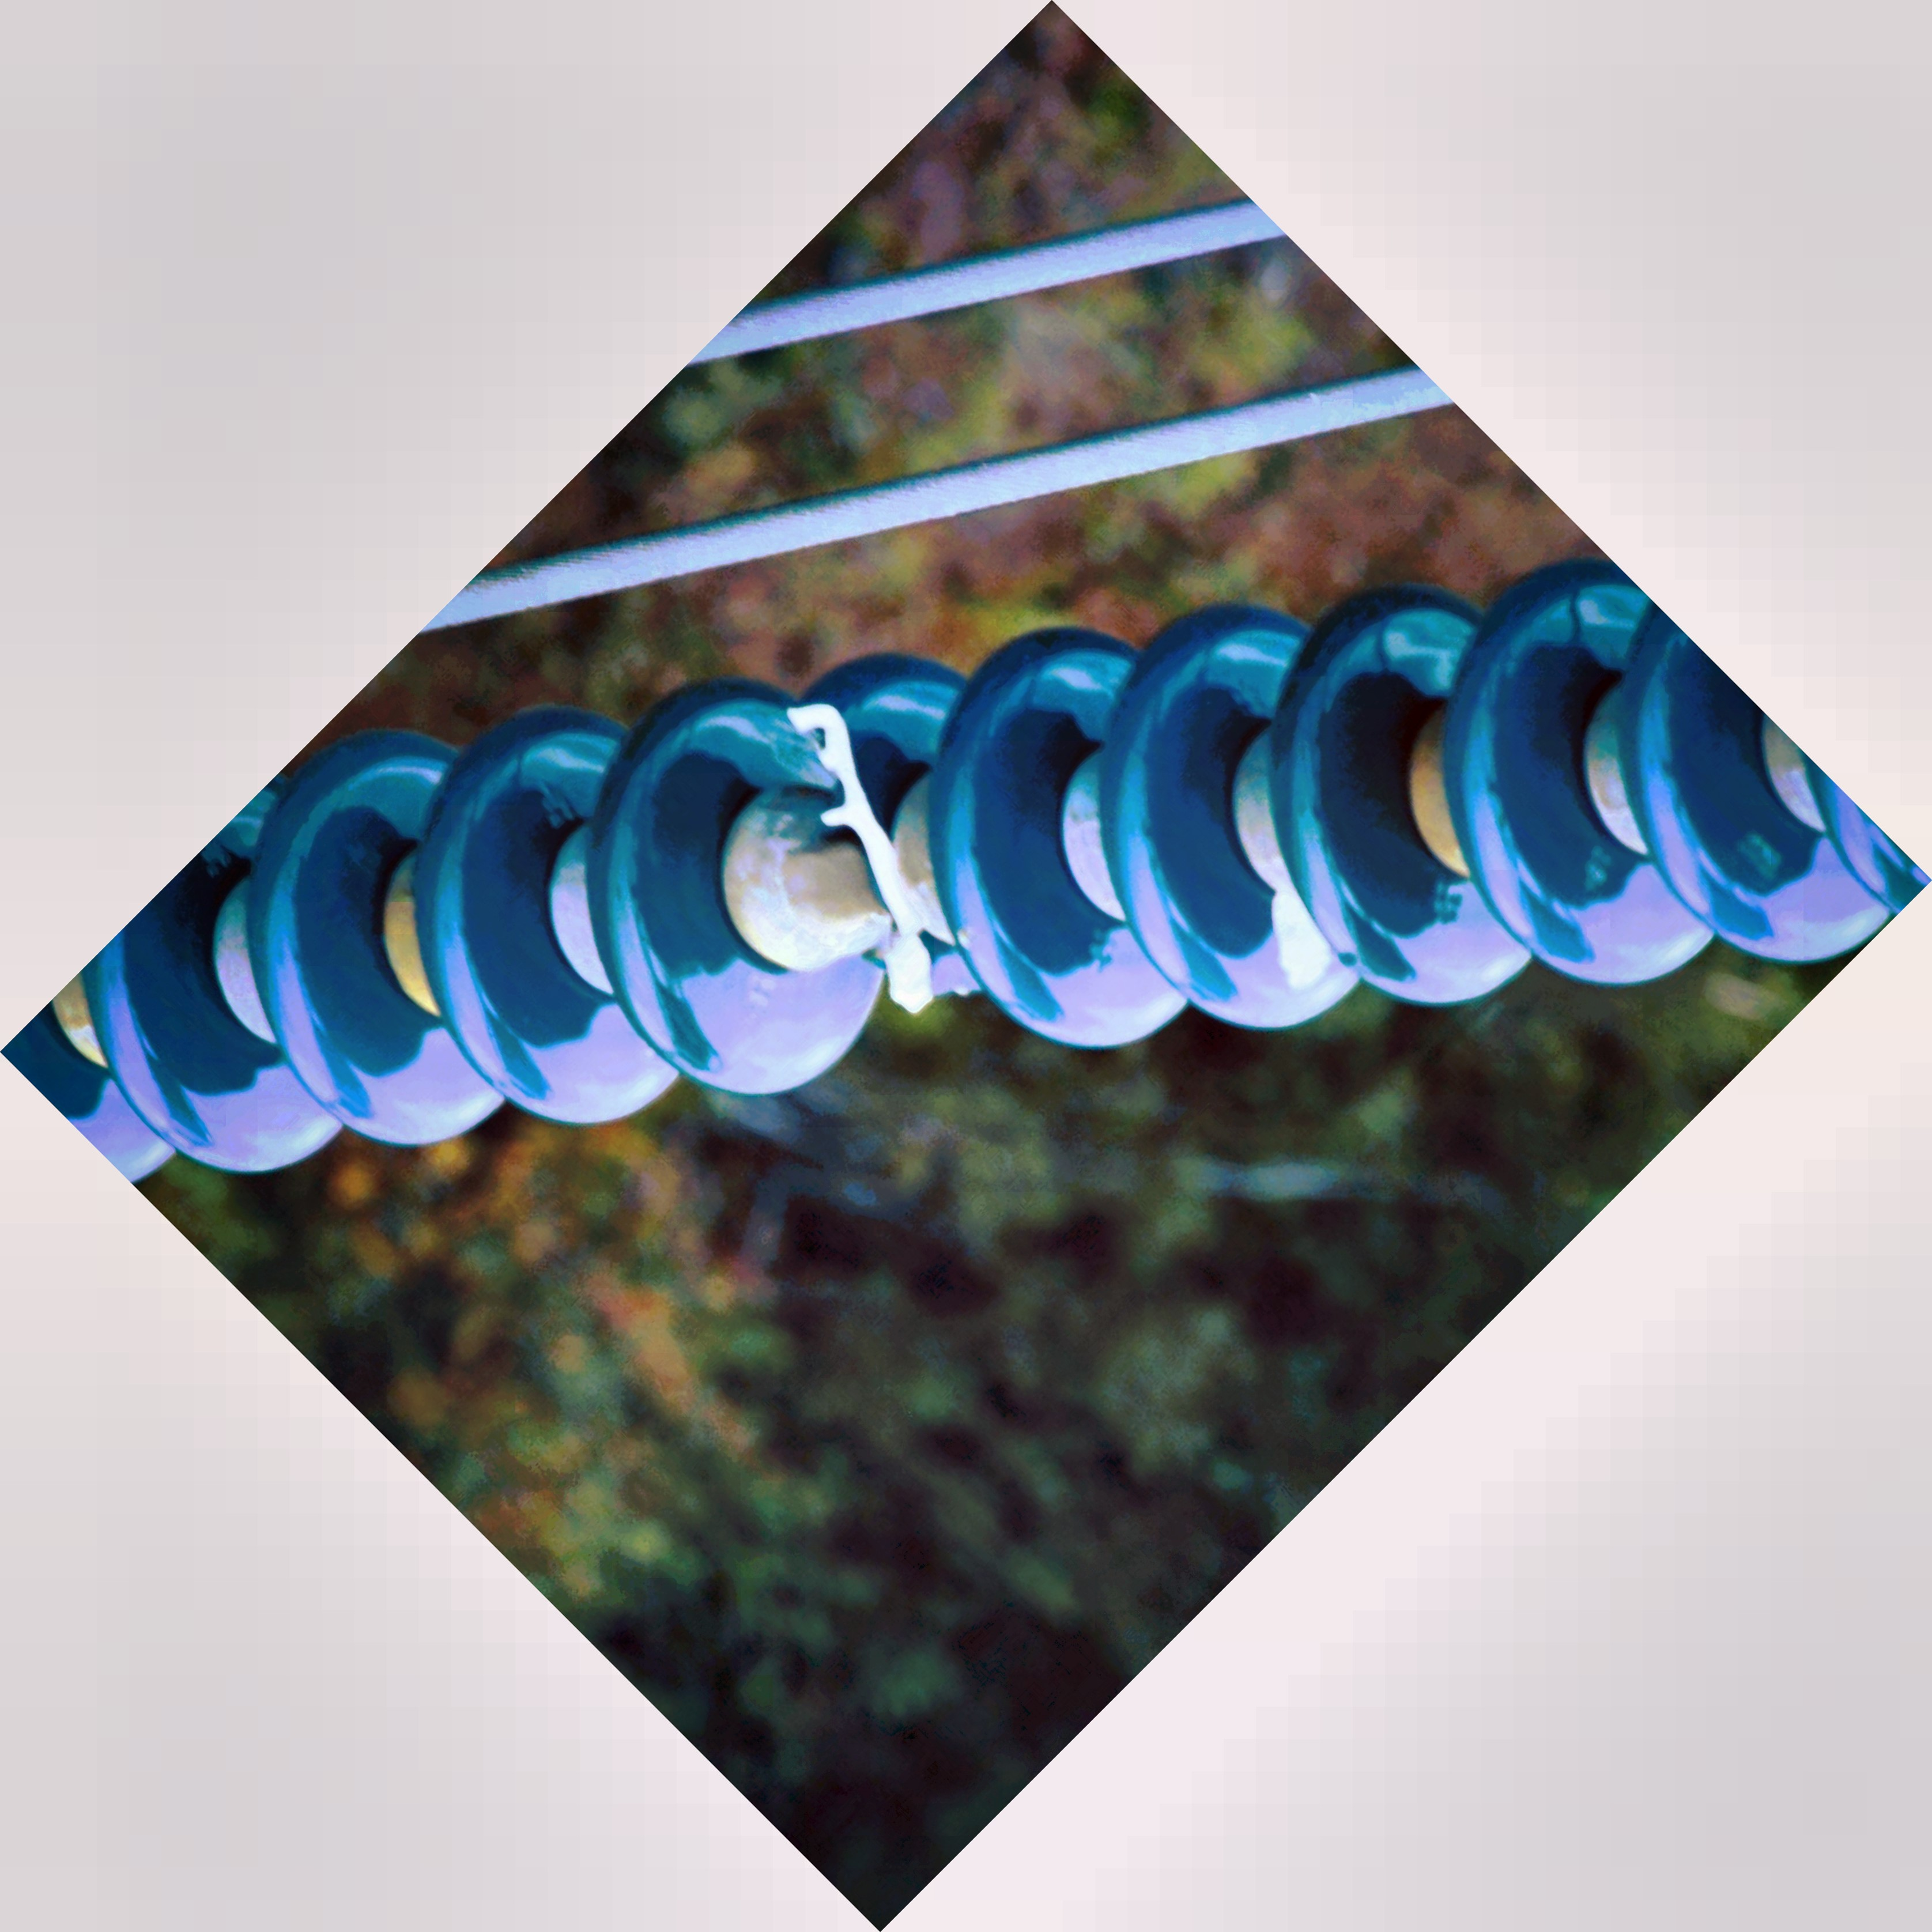insulator breakage: (775, 623, 1019, 1056)
